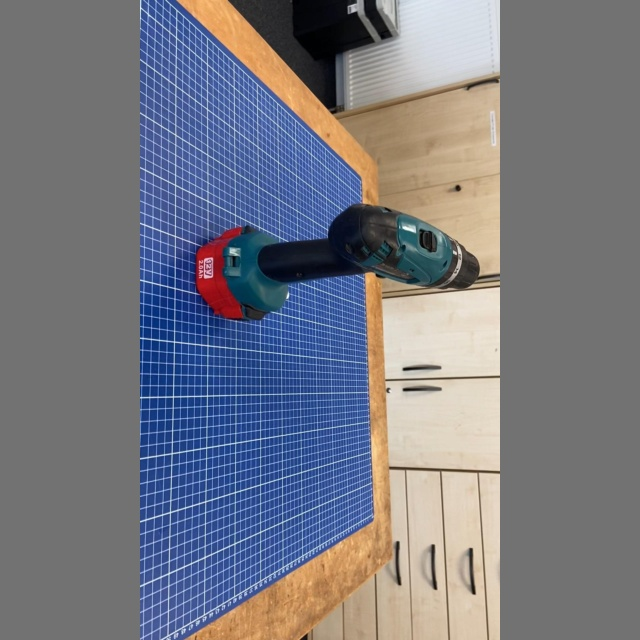drill: (190, 199, 484, 325)
